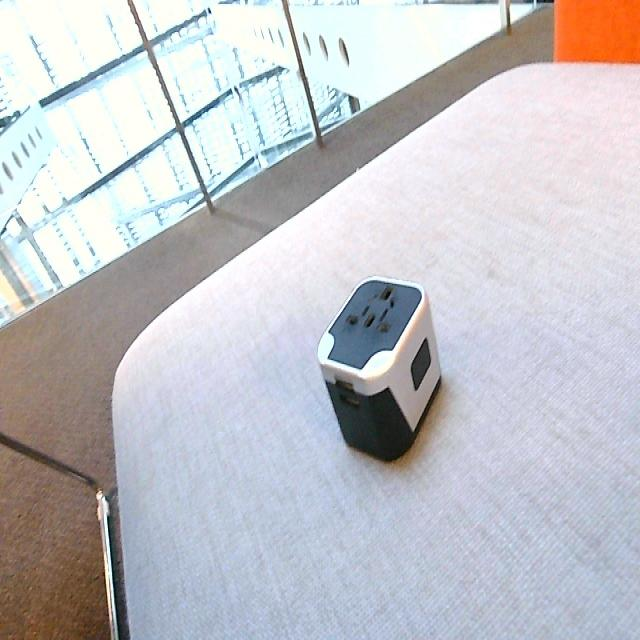adapter: (316, 274, 442, 462)
